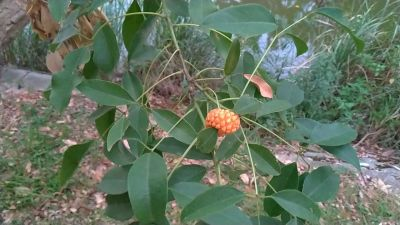eggs: (202, 101, 242, 136)
